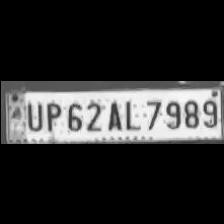2: (82, 97, 104, 130)
6: (61, 99, 81, 131)
7: (140, 96, 160, 130)
8: (181, 97, 199, 129)
9: (161, 97, 181, 129), (200, 96, 218, 128)
A: (103, 97, 121, 130)
L: (120, 96, 140, 130)
P: (42, 99, 60, 131)
U: (22, 97, 42, 130)
